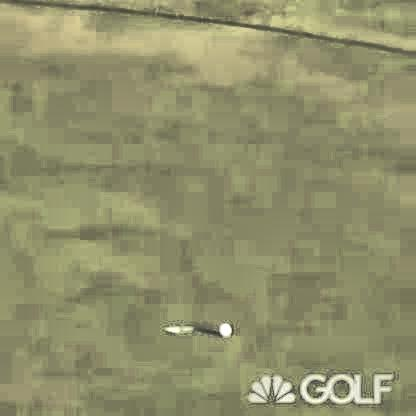golfball: (215, 319, 231, 335)
